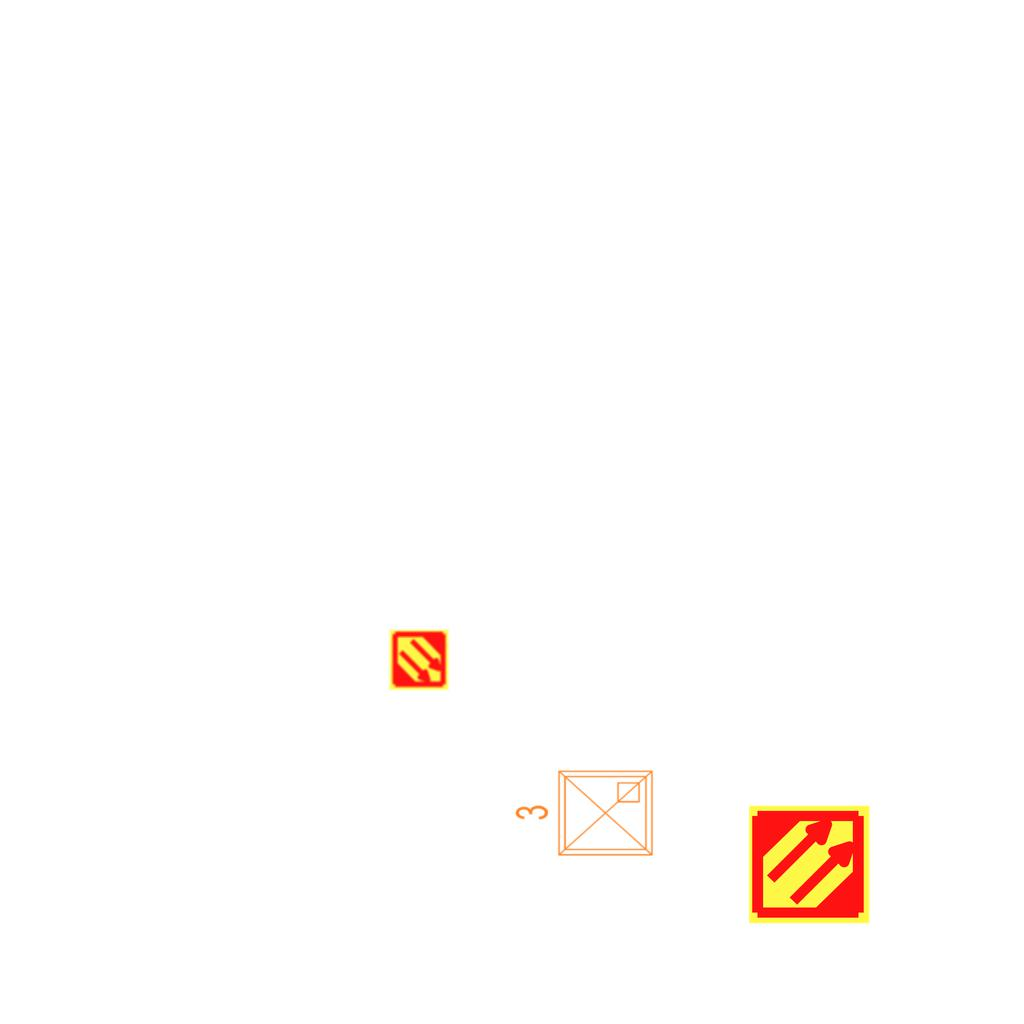ASR_Ansaugrauchmelder: (747, 802, 872, 927), (388, 629, 450, 691)
Einbaudownlights_LED_Konferenzraeume: (510, 763, 660, 867)
